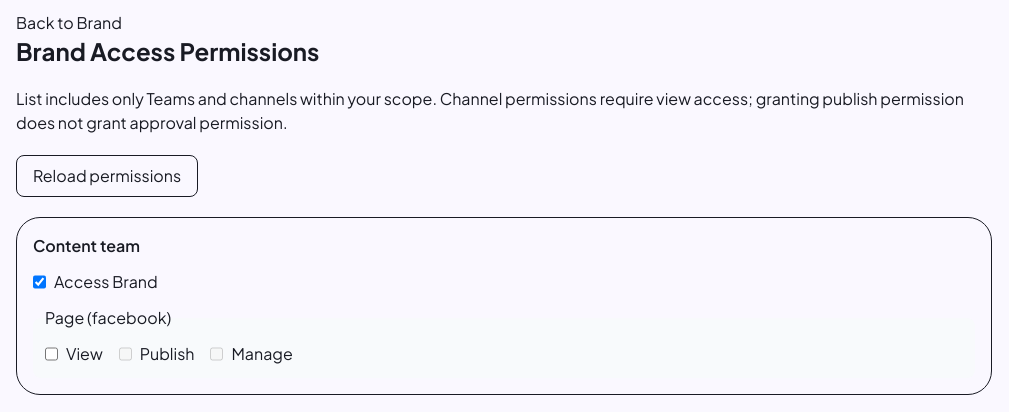
Scenario: requires view before publish and sends the current revision
Expected: the checkbox labelled "Publish" is disabled, [119,342,132,366]
Click the checkbox labelled "View". click: (52, 354)
box: [45,342,58,366]
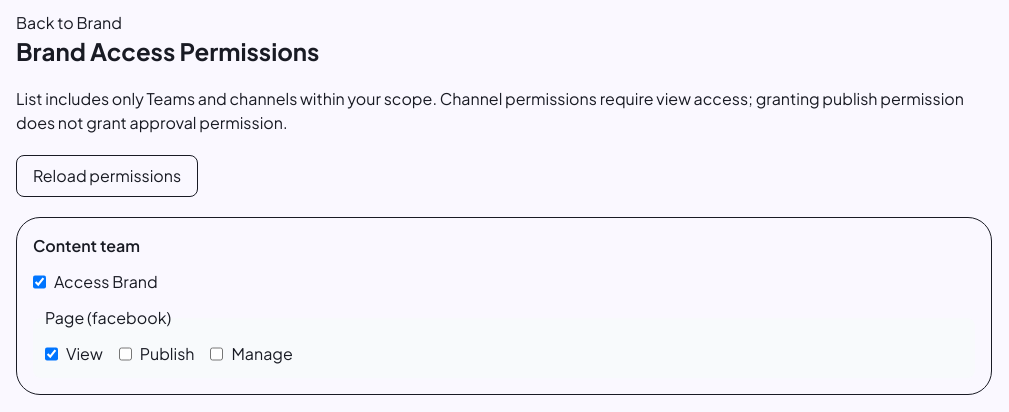
Now the checkbox labelled "Publish" is enabled, box [119,342,132,366]
